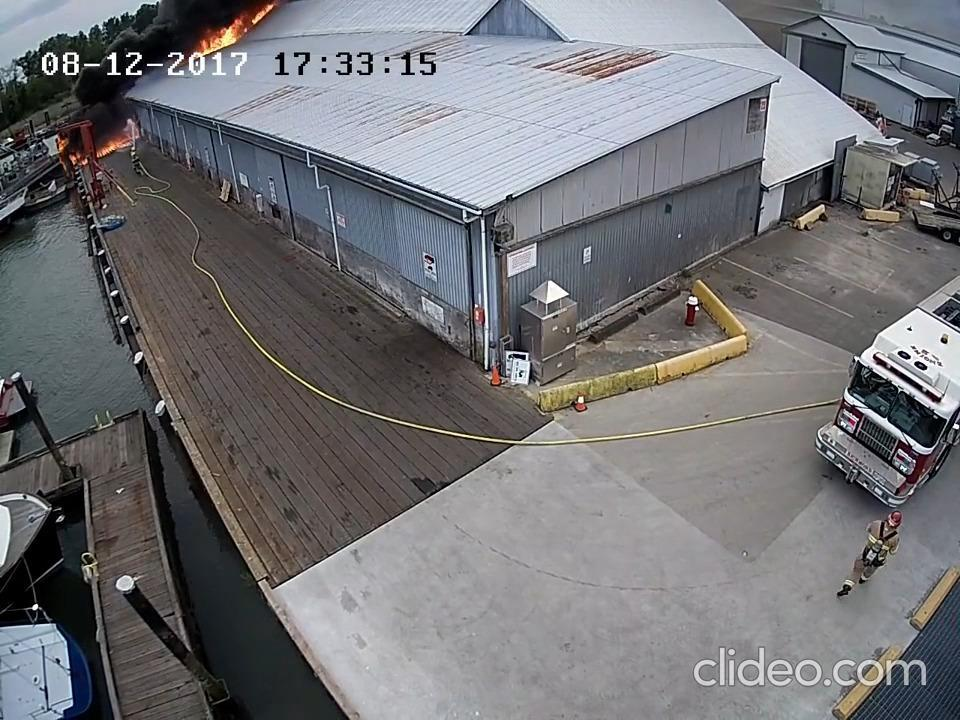fire: (201, 0, 276, 56), (94, 121, 133, 164), (50, 133, 88, 172)
